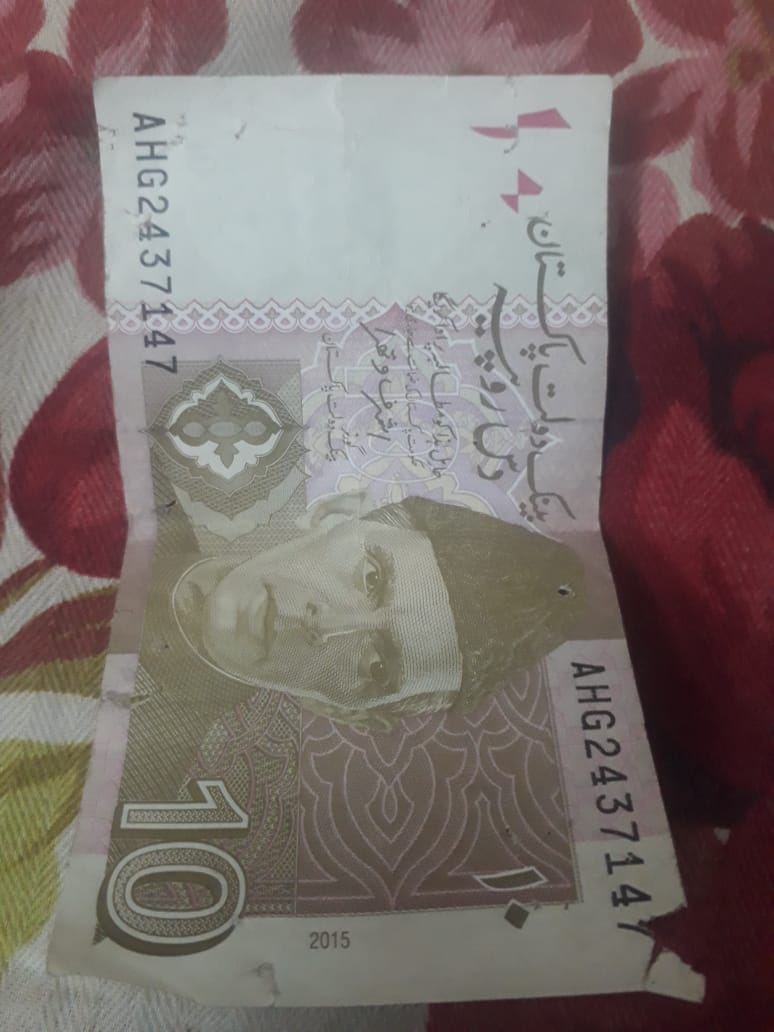10 rupee: (75, 81, 670, 960)
